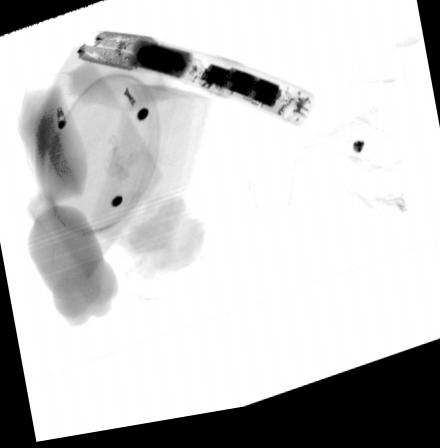Baton: (74, 31, 315, 138)
